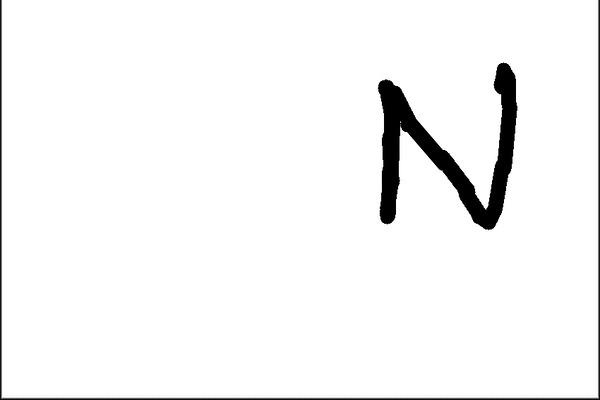N: (373, 58, 523, 235)
